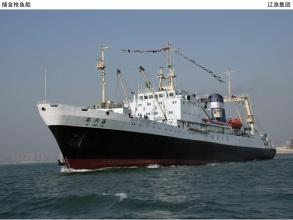Cargoship: (27, 37, 277, 166)
